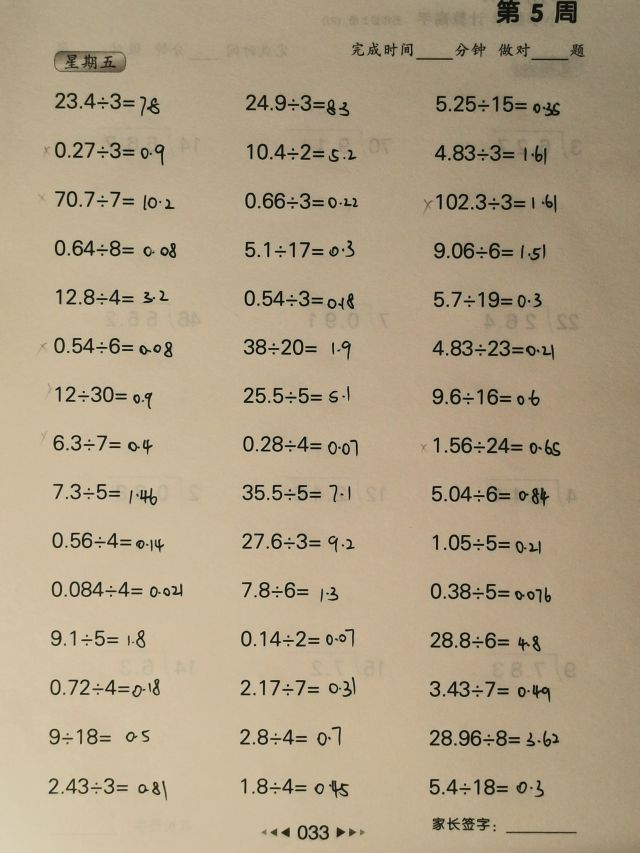equation: (422, 771, 547, 802), (419, 189, 560, 215), (44, 773, 173, 801), (426, 676, 554, 704), (51, 87, 163, 119), (431, 90, 563, 117), (426, 725, 562, 751), (430, 432, 564, 458), (236, 674, 359, 702), (427, 481, 553, 508), (428, 335, 558, 361), (426, 579, 555, 605), (47, 577, 186, 601), (50, 138, 169, 166), (49, 333, 176, 359), (430, 139, 550, 166), (46, 675, 165, 702), (426, 627, 544, 654), (51, 187, 178, 212), (236, 625, 357, 651), (49, 236, 179, 260), (238, 432, 362, 457), (238, 528, 357, 554), (241, 90, 354, 117), (236, 774, 352, 800), (47, 528, 167, 553), (429, 530, 544, 556), (239, 334, 354, 360), (429, 238, 548, 263), (239, 382, 353, 408), (239, 286, 357, 311), (241, 237, 359, 262), (237, 723, 346, 750), (49, 479, 162, 505), (241, 189, 363, 213), (242, 139, 359, 164), (52, 285, 173, 309), (239, 481, 355, 506), (430, 287, 546, 312), (428, 384, 543, 409), (51, 382, 156, 409), (47, 626, 150, 653), (238, 577, 342, 603), (46, 725, 154, 750), (48, 431, 156, 456)
